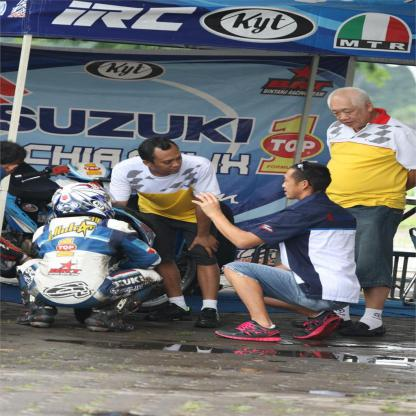face: (333, 102, 368, 129), (153, 151, 182, 175), (283, 173, 306, 200)
